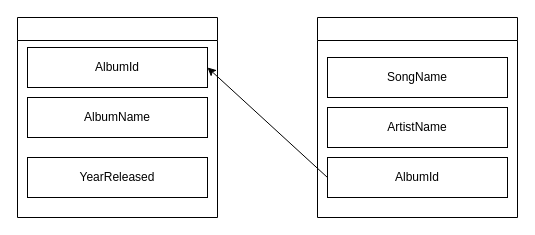
Image size: 535x235. Some labels were removed from this diagram. Here are the shapes that lost their labels. From the top down, the box of each, then its label:
(16, 16, 218, 218): AlbumsLibrary
(316, 16, 518, 218): Songs
